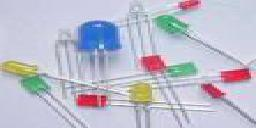LED: (81, 19, 128, 67), (153, 14, 191, 40), (76, 91, 111, 110), (130, 77, 152, 107), (1, 58, 37, 75)
